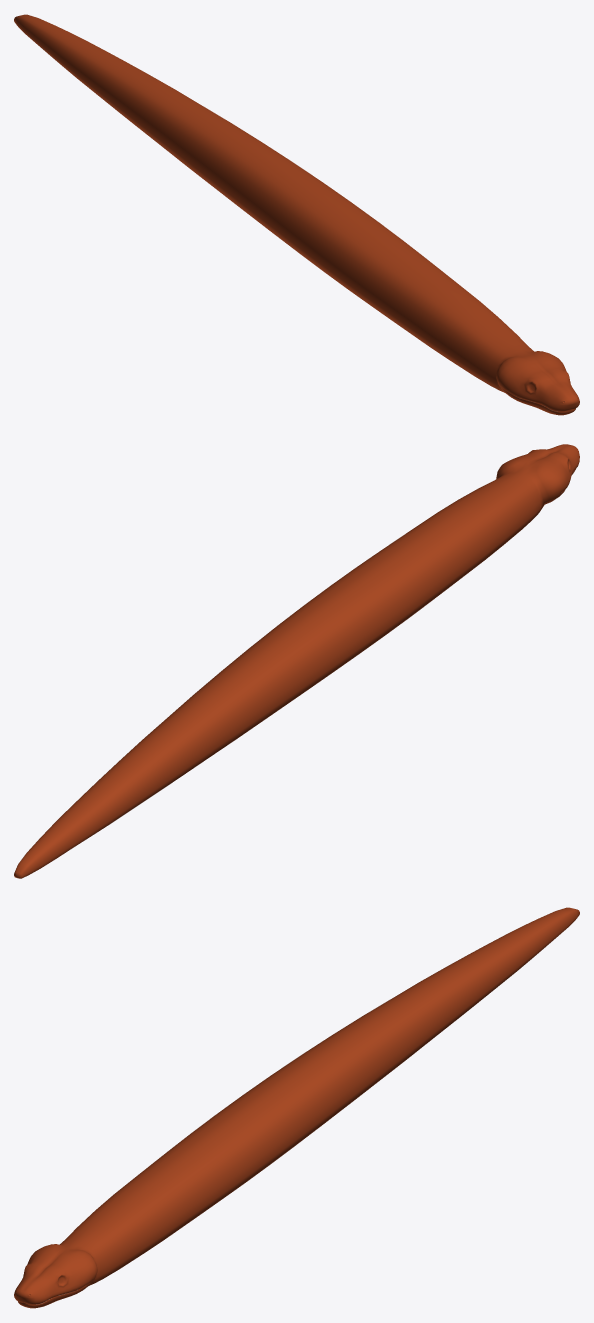
Rendered from boa_constrictor_boa.obj.
The picture shows the model from 3 angles, top to bottom: view 1: azimuth 30°, elevation 25°; view 2: azimuth 150°, elevation 25°; view 3: azimuth 330°, elevation 25°; orthographic projection.
Visible parts, largest first — view 1: boa; view 2: boa; view 3: boa.
Part boxes in pixels (x1=…): boa: x1=14, y1=14, x2=579, y2=415; boa: x1=14, y1=444, x2=579, y2=878; boa: x1=14, y1=907, x2=579, y2=1308.
Size of the model in its own units: 0.1981 by 0.1408 by 2.95.
